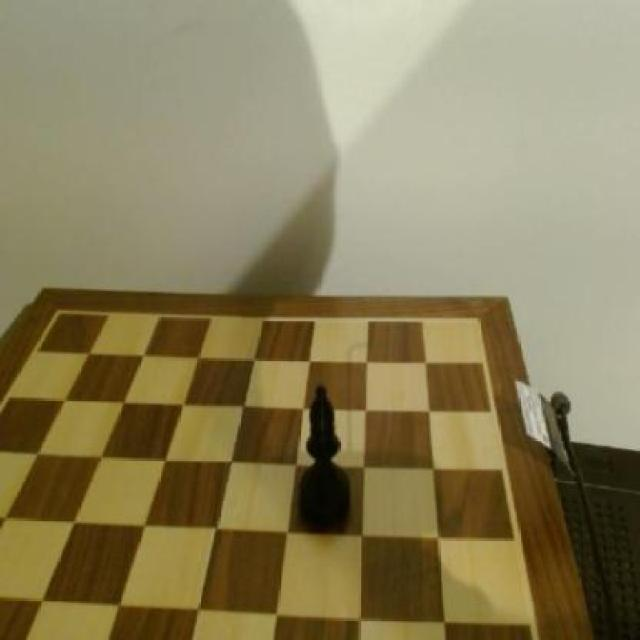bishop: (292, 380, 354, 529)
